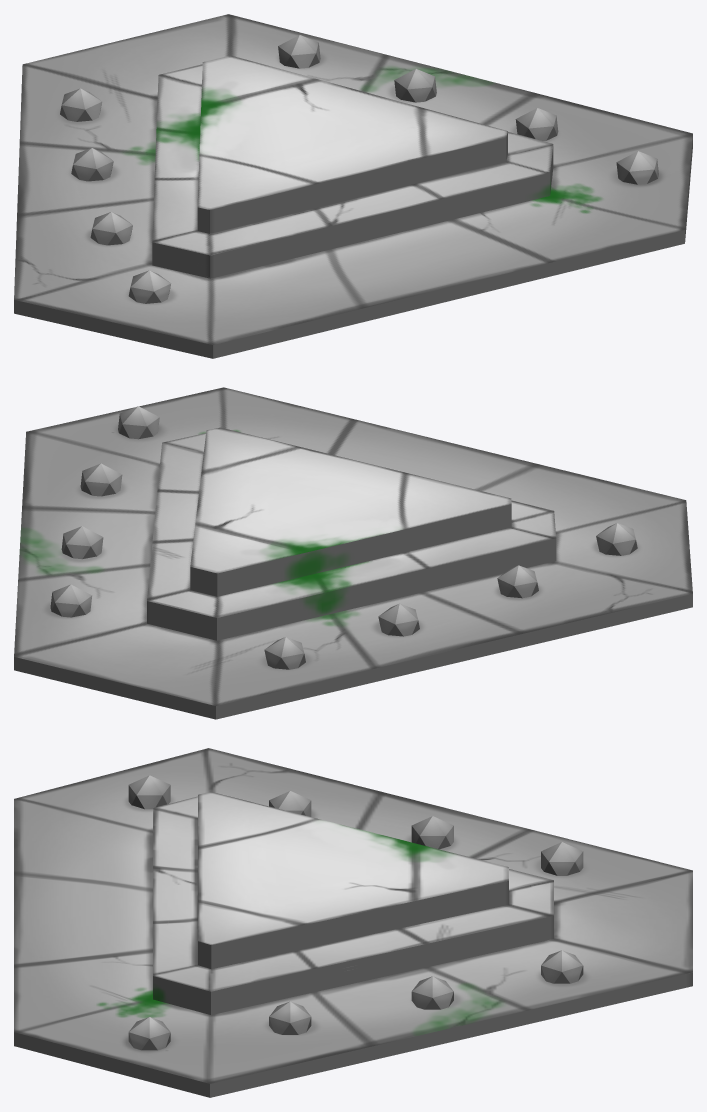
File: naga altar.fbx
3 renders of one model, top to bottom at view 1: azimuth 30°, elevation 25°; view 2: azimuth 150°, elevation 25°; view 3: azimuth 270°, elevation 25°, orthographic. The views are drawn at different scales.
Visible parts, largest first — view 1: Cube, Icosphere; view 2: Cube, Icosphere; view 3: Cube, Icosphere.
Boxes of the visible parts, <box> form: Cube: <box>14,14,692,358</box>; Icosphere: <box>60,35,658,303</box>; Cube: <box>14,387,692,719</box>; Icosphere: <box>50,406,637,669</box>; Cube: <box>14,748,692,1097</box>; Icosphere: <box>128,775,583,1050</box>.
Size of the model in its own units: 1637 by 153 by 1399.
2 materials, 2 textured.
